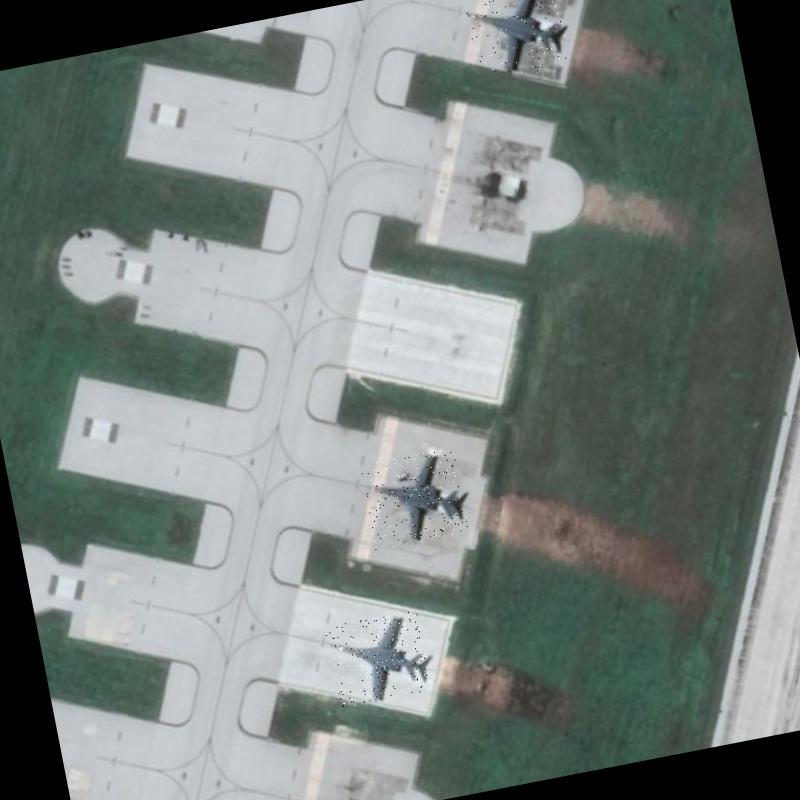A10: (358, 446, 469, 551), (324, 609, 432, 708), (461, 0, 573, 82)
